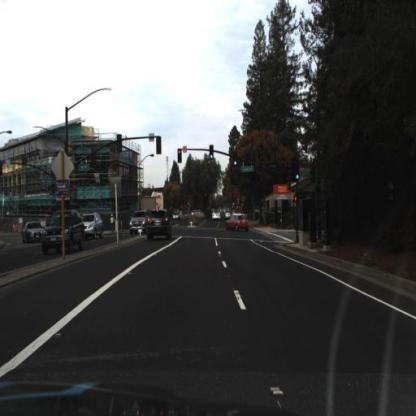car: (44, 209, 85, 258), (144, 206, 174, 246), (83, 210, 107, 243), (223, 211, 253, 235), (128, 208, 151, 237), (24, 221, 46, 244)
pedestrian: (110, 210, 117, 237)
trafficLight-Green: (233, 151, 240, 170), (209, 144, 215, 163), (295, 167, 301, 185)
trafficLight-RedLeft: (178, 149, 184, 163)
